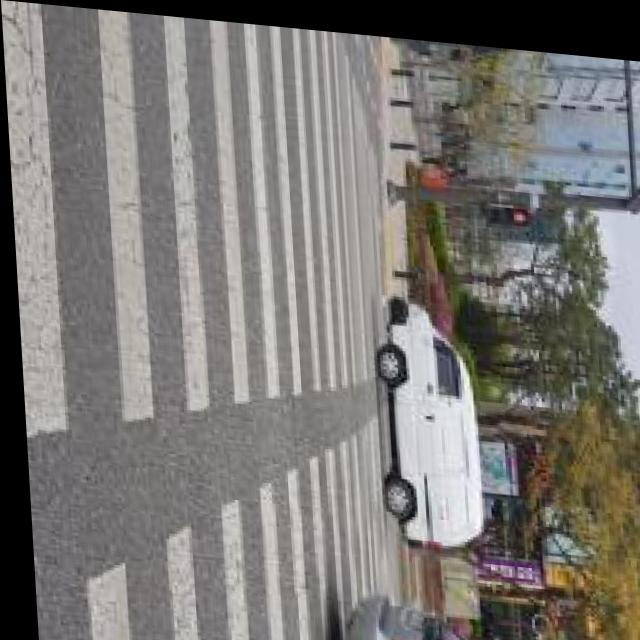zebra: (3, 60, 404, 432), (78, 415, 391, 640)
